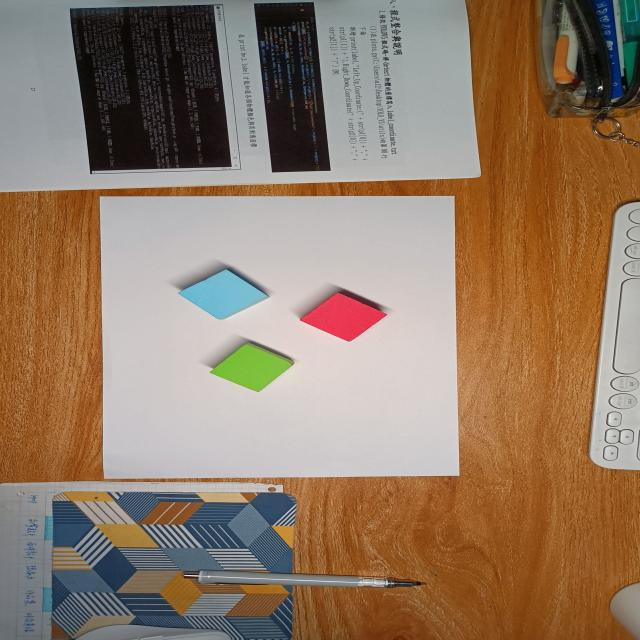BLUE: (177, 270, 270, 320)
GREEN: (209, 343, 295, 392)
RED: (299, 293, 387, 342)
